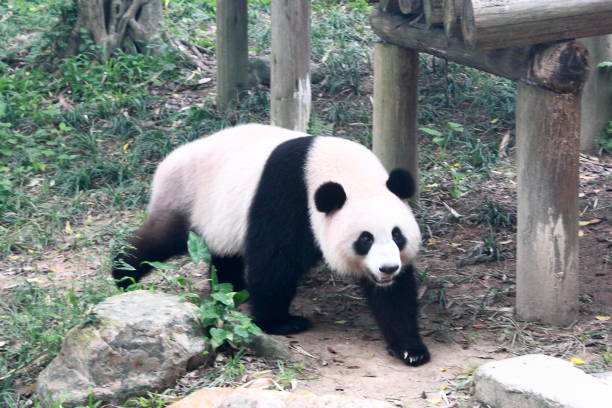panda: (302, 159, 451, 309)
